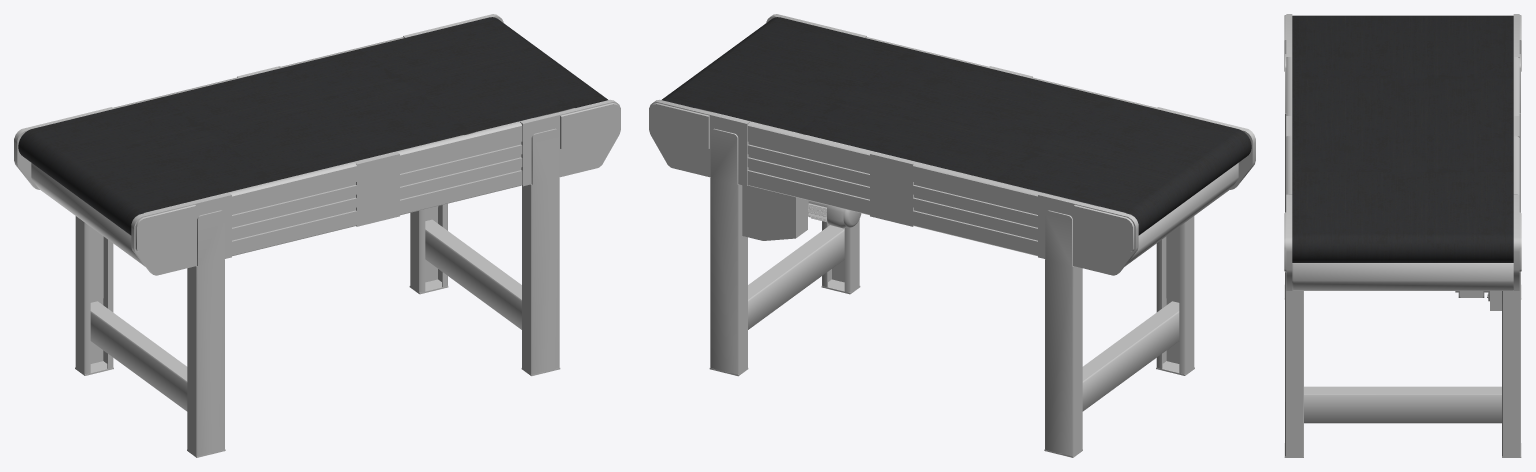
File: BeltConveyor2M.FBX
3 renders of one model, left to right at view 1: azimuth 30°, elevation 25°; view 2: azimuth 150°, elevation 25°; view 3: azimuth 270°, elevation 25°, orthographic. The views are drawn at different scales.
Visible parts, largest first — view 1: BeltConveyor2M, BeltConveyor_Belt; view 2: BeltConveyor2M, BeltConveyor_Belt; view 3: BeltConveyor_Belt, BeltConveyor2M.
Part boxes in pixels (x1,y1,x2,y2): BeltConveyor2M: (14, 14, 620, 457); BeltConveyor_Belt: (18, 17, 607, 235); BeltConveyor2M: (649, 14, 1255, 457); BeltConveyor_Belt: (662, 17, 1251, 235); BeltConveyor_Belt: (1292, 15, 1513, 262); BeltConveyor2M: (1284, 14, 1521, 457).
Size of the model in its own units: 2 by 0.9975 by 0.8703.
